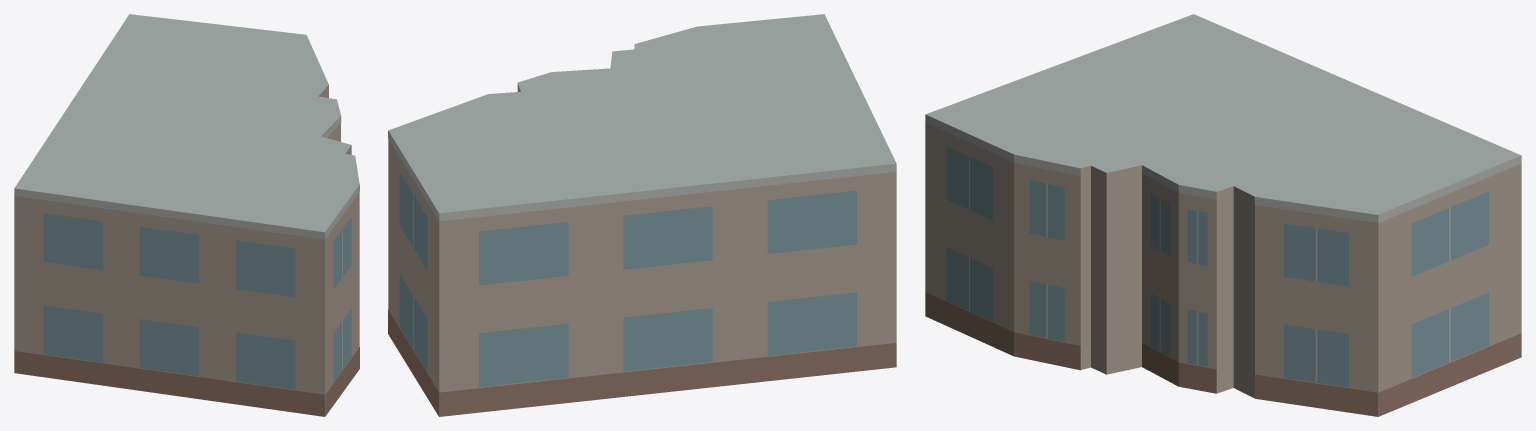
Rendered from survey-upis-32892717.glb.
3 views of the same model, side by side, from view 1: azimuth 30°, elevation 25°; view 2: azimuth 150°, elevation 25°; view 3: azimuth 270°, elevation 25° (orthographic). The views are drawn at different scales.
Visible parts, largest first — view 1: survey-upis-32892717.tmp; view 2: survey-upis-32892717.tmp; view 3: survey-upis-32892717.tmp.
Part boxes in pixels (left/top/right/bottom): survey-upis-32892717.tmp: left=14, top=14, right=359, bottom=416; survey-upis-32892717.tmp: left=388, top=14, right=896, bottom=416; survey-upis-32892717.tmp: left=925, top=14, right=1521, bottom=416.
Bounding box in the file's own units: 13.04 × 6.1 × 16.34.
